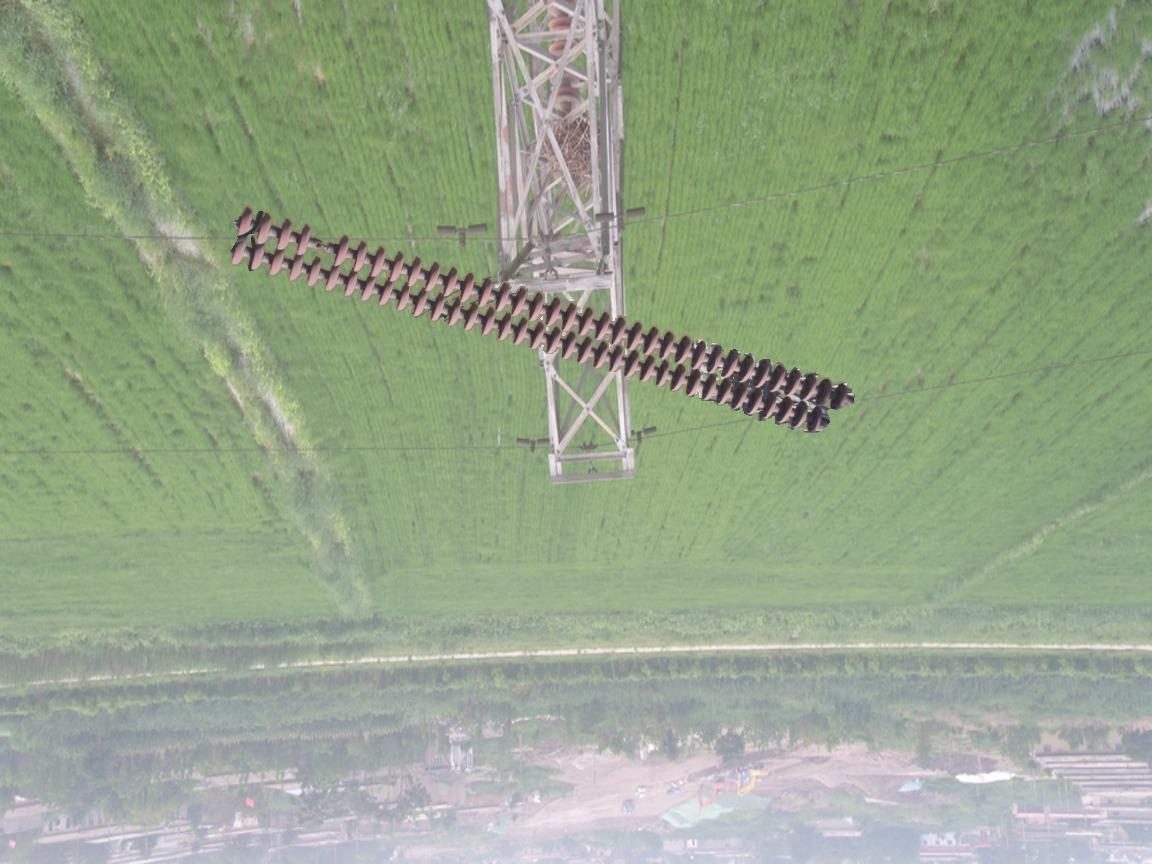insulator: (224, 200, 862, 436), (543, 1, 584, 110)
insulator_stringdrop: (293, 221, 353, 271)
